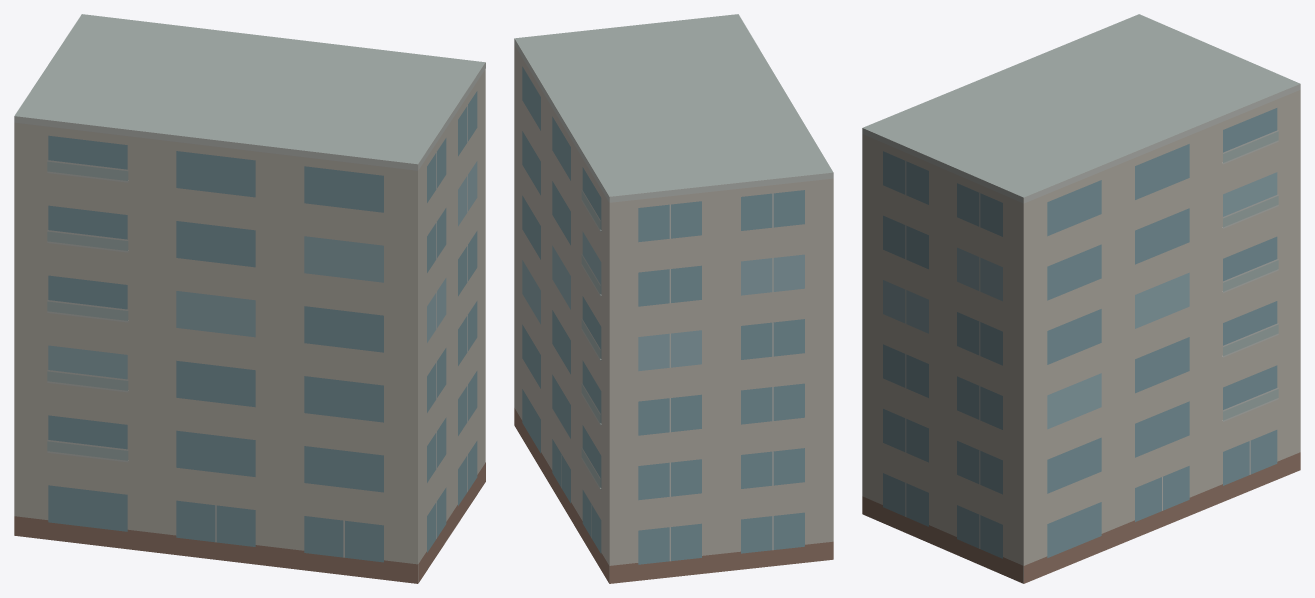
The model's file is survey-upis-32930897.glb.
3 views of the same model, side by side, from view 1: azimuth 30°, elevation 25°; view 2: azimuth 150°, elevation 25°; view 3: azimuth 270°, elevation 25° (orthographic). The views are drawn at different scales.
Visible parts, largest first — view 1: survey-upis-32930897.tmp; view 2: survey-upis-32930897.tmp; view 3: survey-upis-32930897.tmp.
Part boxes in pixels (left/top/right/bottom): survey-upis-32930897.tmp: left=14, top=14, right=485, bottom=583; survey-upis-32930897.tmp: left=514, top=14, right=833, bottom=583; survey-upis-32930897.tmp: left=862, top=14, right=1300, bottom=583.
Size of the model in its own units: 16.11 by 15.8 by 16.26.
